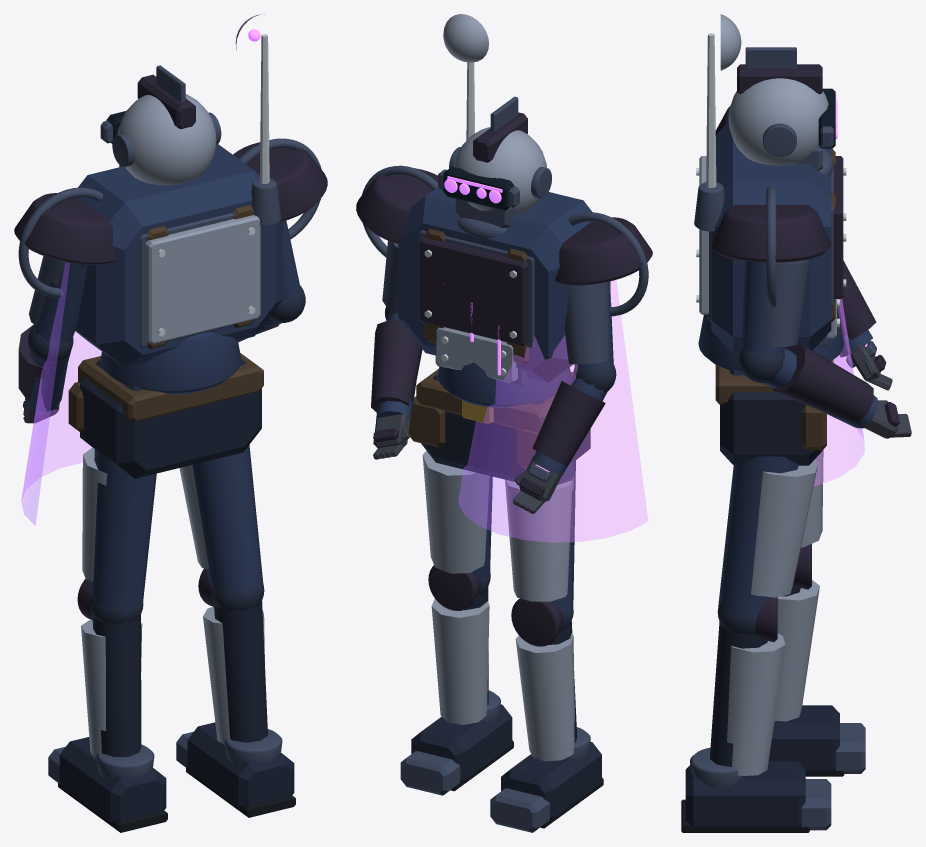
Rendered from hero_specter.glb.
3 renders of one model, left to right at view 1: azimuth 30°, elevation 25°; view 2: azimuth 150°, elevation 25°; view 3: azimuth 270°, elevation 25°, orthographic. The views are drawn at different scales.
Visible parts, largest first — view 1: hero_specter_chest, hero_specter_back_plate_face, hero_specter_pelvis, hero_specter_thigh_l, hero_specter_thigh_r, hero_specter_cloak, hero_specter_helmet, hero_specter_shin_r, hero_specter_abdomen, hero_specter_shin_l, hero_specter_boot_l, hero_specter_boot_r (+29 smaller); view 2: hero_specter_cloak, hero_specter_chest, hero_specter_chest_plate_face, hero_specter_thigh_plate_r, hero_specter_thigh_plate_l, hero_specter_greave_l, hero_specter_greave_r, hero_specter_pelvis, hero_specter_pauldron-1, hero_specter_boot_r, hero_specter_boot_l, hero_specter_bracer_r (+31 smaller); view 3: hero_specter_chest, hero_specter_boot_r, hero_specter_greave_r, hero_specter_thigh_plate_r, hero_specter_helmet, hero_specter_pelvis, hero_specter_thigh_r, hero_specter_pauldron1, hero_specter_bracer_r, hero_specter_greave_l, hero_specter_boot_l, hero_specter_cloak (+29 smaller).
Part boxes in pixels (x1,y1,x2,y2): hero_specter_chest: (75, 144, 283, 367); hero_specter_back_plate_face: (145, 215, 260, 343); hero_specter_pelvis: (80, 358, 261, 478); hero_specter_thigh_l: (90, 449, 156, 615); hero_specter_thigh_r: (192, 445, 263, 599); hero_specter_cloak: (21, 262, 101, 525); hero_specter_helmet: (117, 94, 216, 185); hero_specter_shin_r: (213, 601, 267, 742); hero_specter_abdomen: (100, 332, 241, 394); hero_specter_shin_l: (92, 615, 141, 756); hero_specter_boot_l: (59, 737, 166, 823); hero_specter_boot_r: (187, 722, 294, 808); hero_specter_cloak: (458, 280, 647, 542); hero_specter_chest: (398, 187, 610, 382); hero_specter_chest_plate_face: (419, 238, 528, 345); hero_specter_thigh_plate_r: (422, 451, 489, 573); hero_specter_thigh_plate_l: (505, 477, 574, 601); hero_specter_greave_l: (515, 633, 574, 761); hero_specter_greave_r: (431, 598, 489, 724); hero_specter_pelvis: (421, 374, 590, 481); hero_specter_pauldron-1: (555, 217, 652, 285); hero_specter_boot_r: (411, 704, 512, 782); hero_specter_boot_l: (501, 741, 601, 819); hero_specter_bracer_r: (371, 319, 422, 412); hero_specter_chest: (711, 122, 831, 353); hero_specter_boot_r: (685, 761, 805, 828); hero_specter_greave_r: (727, 633, 785, 775); hero_specter_thigh_plate_r: (751, 461, 817, 597); hero_specter_helmet: (728, 78, 828, 165); hero_specter_pelvis: (720, 369, 822, 465); hero_specter_thigh_r: (718, 456, 798, 621); hero_specter_pauldron1: (711, 205, 831, 262); hero_specter_bracer_r: (773, 342, 873, 423); hero_specter_greave_l: (774, 580, 819, 721); hero_specter_boot_l: (768, 705, 839, 771); hero_specter_cloak: (814, 298, 864, 486).
Bounding box in the file's own units: 0.8436 × 2.08 × 0.5374.
